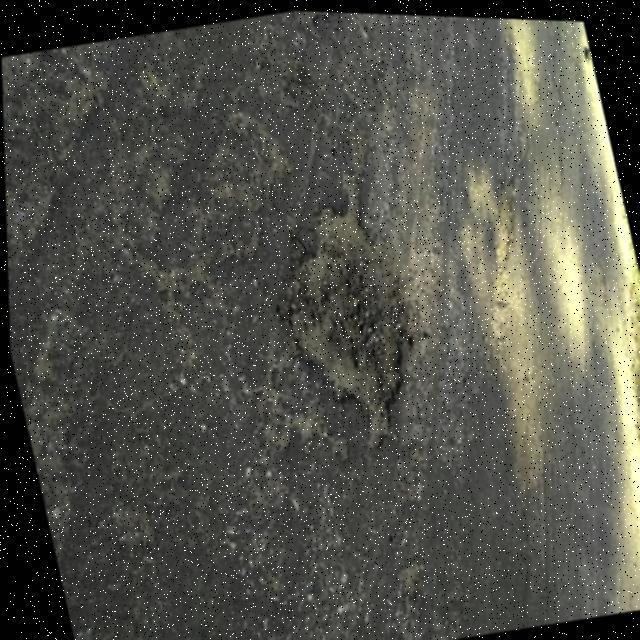pothole: (258, 188, 440, 463)
